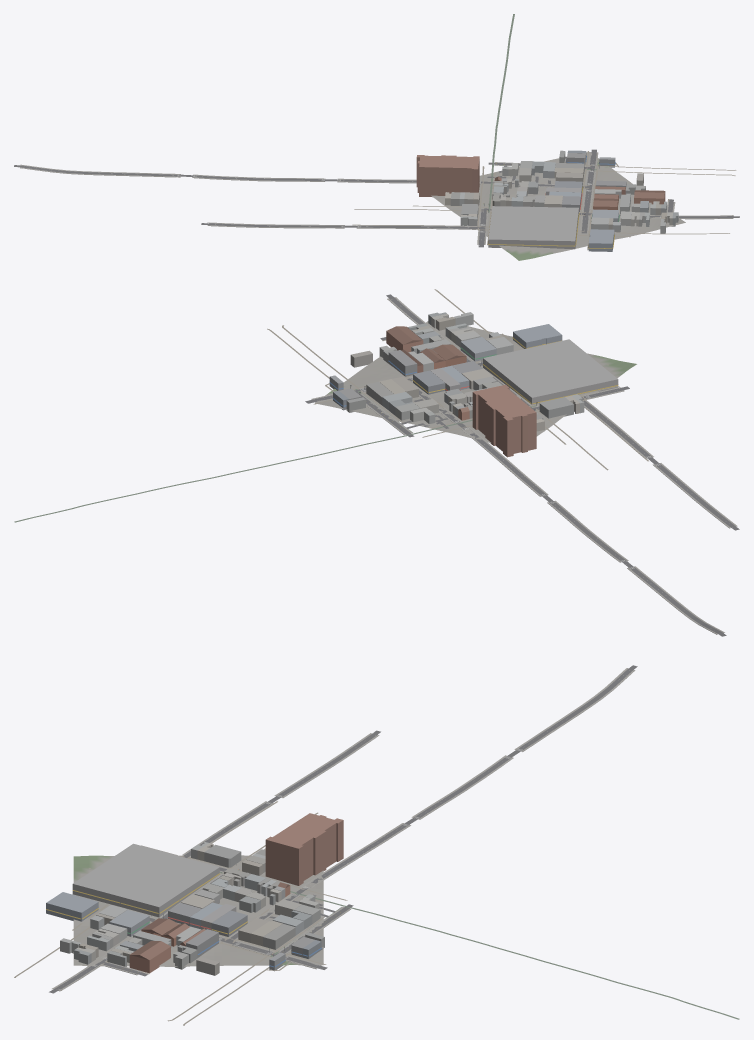
The model's file is tile_-2_-6.glb.
3 views of the same model, one above another, from view 1: azimuth 30°, elevation 25°; view 2: azimuth 150°, elevation 25°; view 3: azimuth 270°, elevation 25° (orthographic). The views are drawn at different scales.
Visible parts, largest first — view 1: buildings, terrain, roads, sidewalks, paths; view 2: buildings, terrain, roads, sidewalks, paths; view 3: buildings, terrain, roads, sidewalks, paths, awnings.
Boxes of the visible parts, <box> form: buildings: <box>416,150,678,251</box>; terrain: <box>431,152,685,260</box>; roads: <box>14,149,739,247</box>; sidewalks: <box>20,152,733,244</box>; paths: <box>352,14,736,252</box>; buildings: <box>329,312,618,457</box>; terrain: <box>315,321,636,442</box>; roads: <box>305,294,739,636</box>; sidewalks: <box>311,297,737,634</box>; paths: <box>14,289,648,522</box>; buildings: <box>46,813,343,975</box>; terrain: <box>73,855,323,967</box>; roads: <box>49,665,637,993</box>; sidewalks: <box>52,668,635,991</box>; paths: <box>14,801,739,1025</box>; awnings: <box>46,873,321,967</box>.
Bounding box in the file's own units: 840 × 50.17 × 743.
